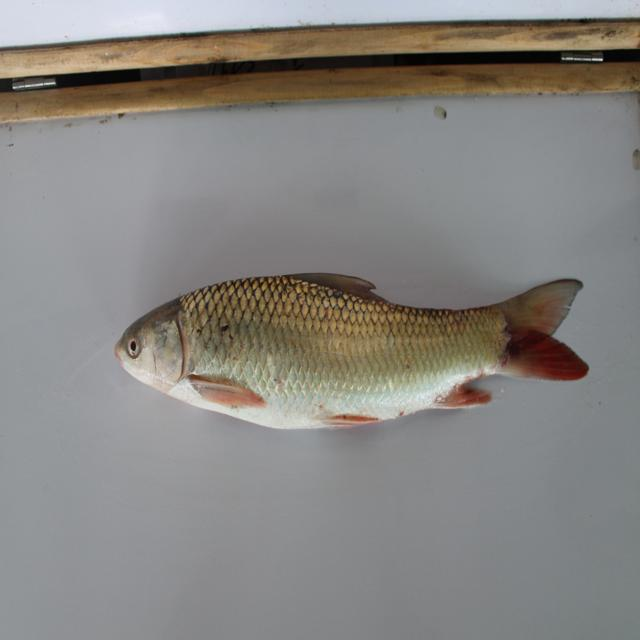Mori: (131, 257, 606, 437)
